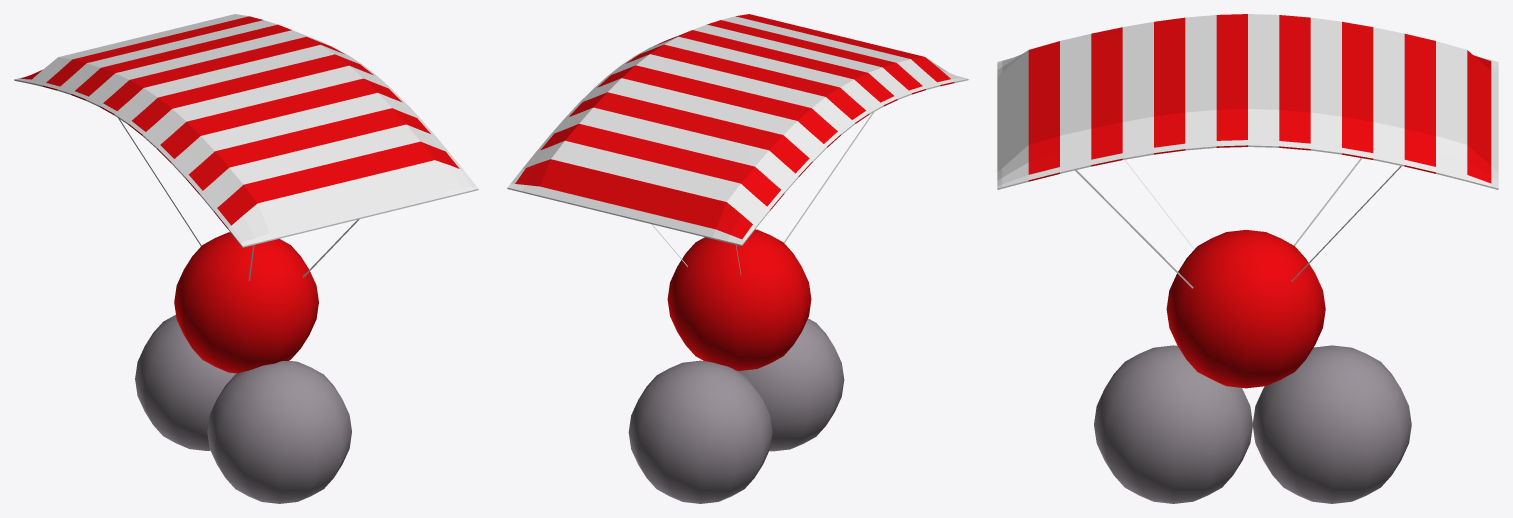
Rendered from bomblet.glb.
The picture shows the model from 3 angles, left to right: view 1: azimuth 30°, elevation 25°; view 2: azimuth 150°, elevation 25°; view 3: azimuth 270°, elevation 25°; orthographic projection. The views are drawn at different scales.
Visible parts, largest first — view 1: Sphere.001, Sphere.002; view 2: Sphere.001, Sphere.002; view 3: Sphere.001, Sphere.002.
Boxes of the visible parts, x1,y1,x2,y2 form: Sphere.001: (14,14,478,280); Sphere.002: (135,232,351,503); Sphere.001: (507,14,968,274); Sphere.002: (628,229,844,503); Sphere.001: (997,14,1498,288); Sphere.002: (1094,230,1411,503).
Bounding box in the file's own units: 6.55 × 10.51 × 10.96.
